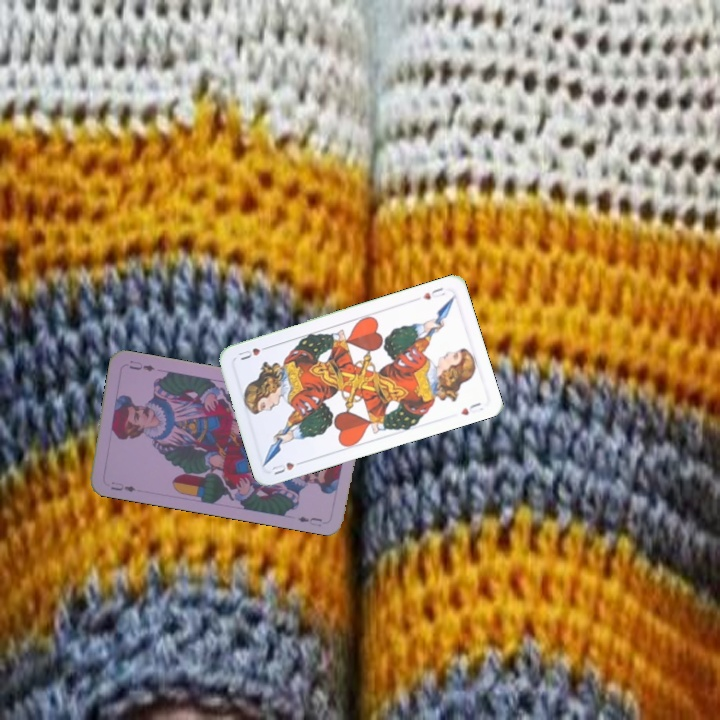EU: (107, 478, 138, 495)
HU: (268, 457, 307, 477), (418, 283, 448, 302)
